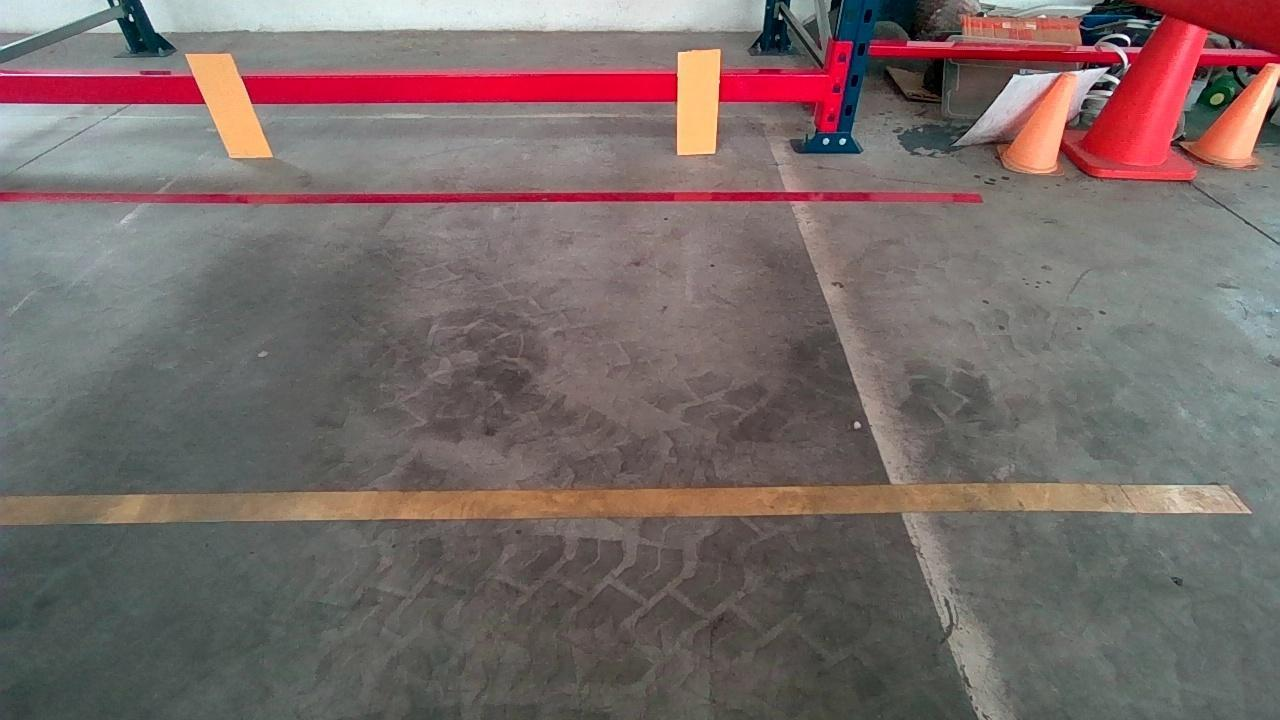h_rack: (0, 74, 826, 100)
orange_strip: (185, 53, 272, 157), (676, 50, 720, 151)
red_line: (0, 188, 981, 202)
